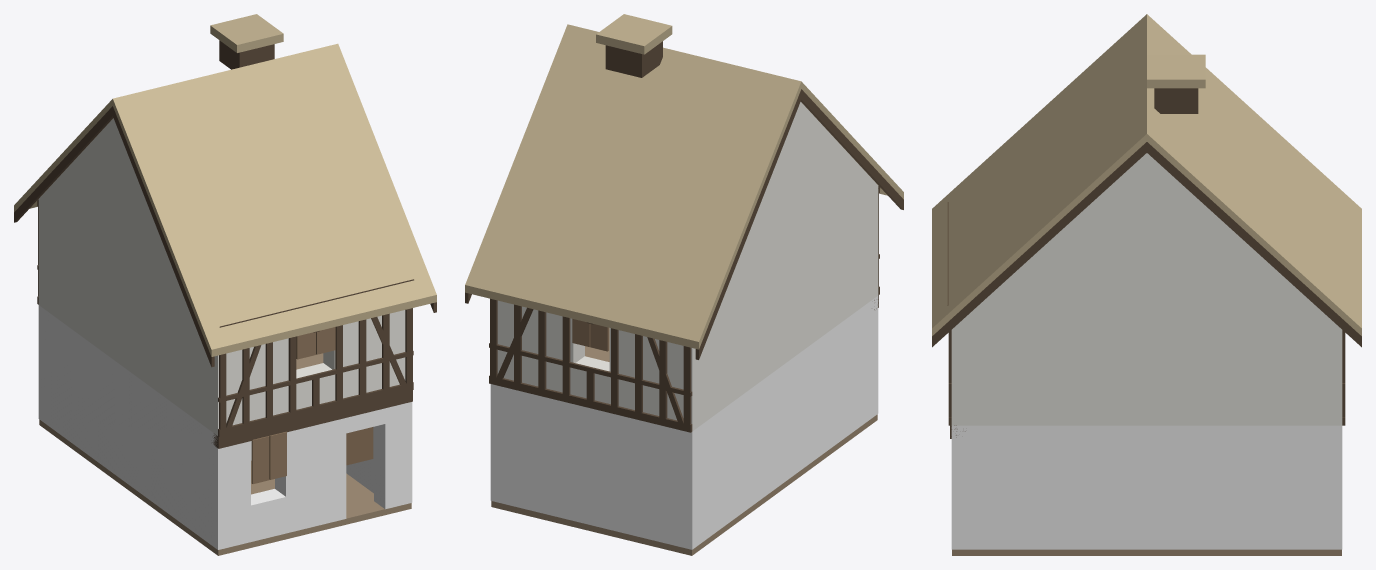
The model's file is glastonbury-a.glb.
3 views of the same model, side by side, from view 1: azimuth 30°, elevation 25°; view 2: azimuth 150°, elevation 25°; view 3: azimuth 270°, elevation 25° (orthographic). The views are drawn at different scales.
Visible parts, largest first — view 1: roof, stone, render, timber, floor, glastonbury-a-door-01 leaf, glastonbury-a-shutter-01 leaf, glastonbury-a-shutter-02 leaf; view 2: roof, stone, render, timber, floor; view 3: render, roof, stone, timber, floor.
Part boxes in pixels (x1,y1,x2,y2): roof: [14, 14, 436, 356]; stone: [38, 305, 412, 549]; render: [38, 118, 405, 435]; timber: [14, 40, 436, 448]; floor: [39, 353, 411, 555]; glastonbury-a-door-01 leaf: [346, 427, 373, 465]; glastonbury-a-shutter-01 leaf: [251, 436, 269, 483]; glastonbury-a-shutter-02 leaf: [269, 431, 286, 479]; roof: [465, 14, 903, 349]; stone: [490, 296, 878, 549]; render: [497, 102, 878, 431]; timber: [465, 41, 903, 432]; floor: [491, 327, 877, 555]; render: [951, 153, 1342, 425]; roof: [932, 14, 1361, 335]; stone: [951, 425, 1342, 549]; timber: [932, 88, 1361, 438]; floor: [952, 549, 1341, 555].
Bounding box in the file's own units: 5.8 × 10.3 × 8.8.
